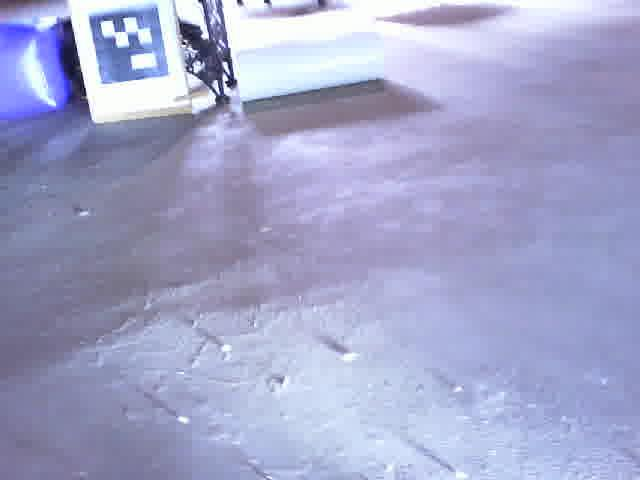coral: (235, 32, 384, 102)
